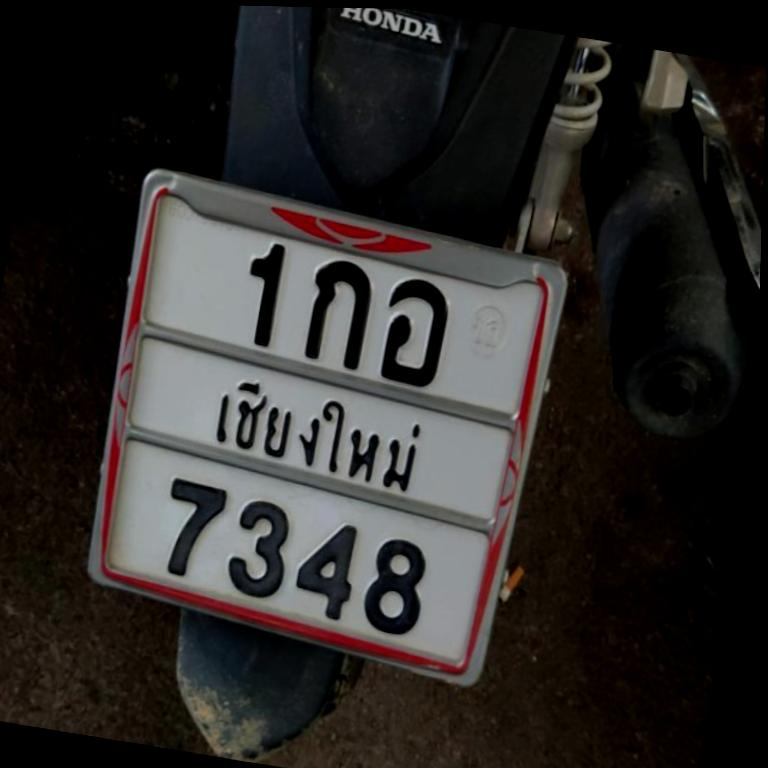license plate: (89, 169, 565, 681)
